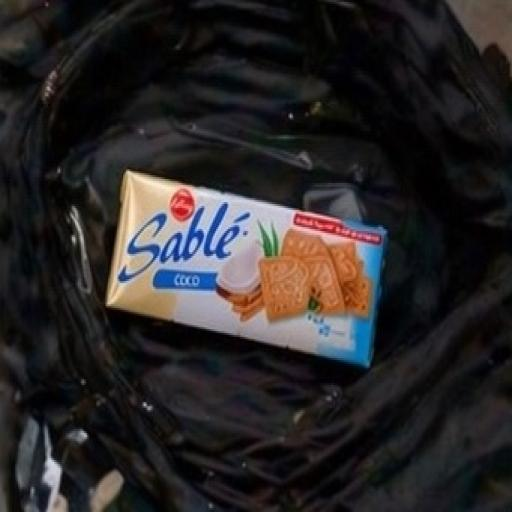sable: (82, 101, 440, 440)
